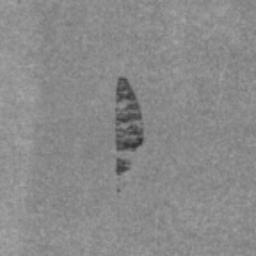Secondary rust skin: (114, 75, 145, 152), (114, 156, 132, 177)
